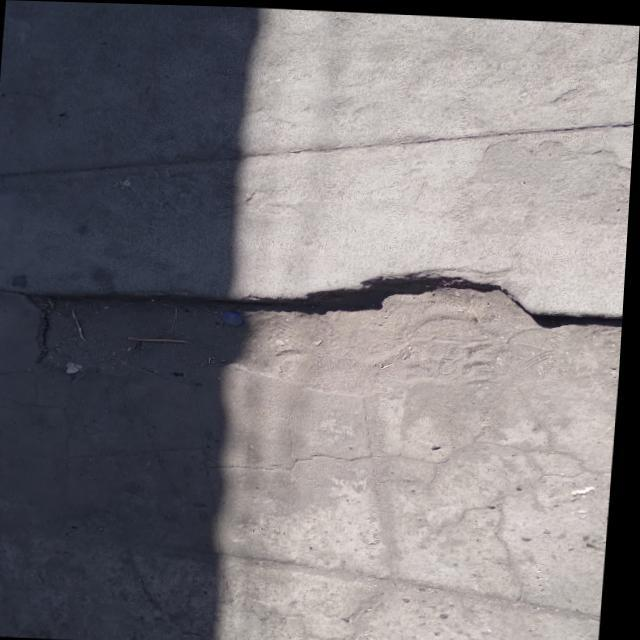hole: (31, 249, 540, 402)
